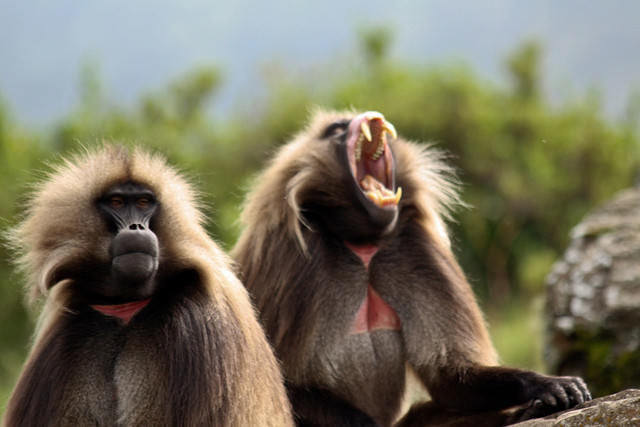Gelada: (10, 146, 284, 424), (223, 109, 476, 396)
